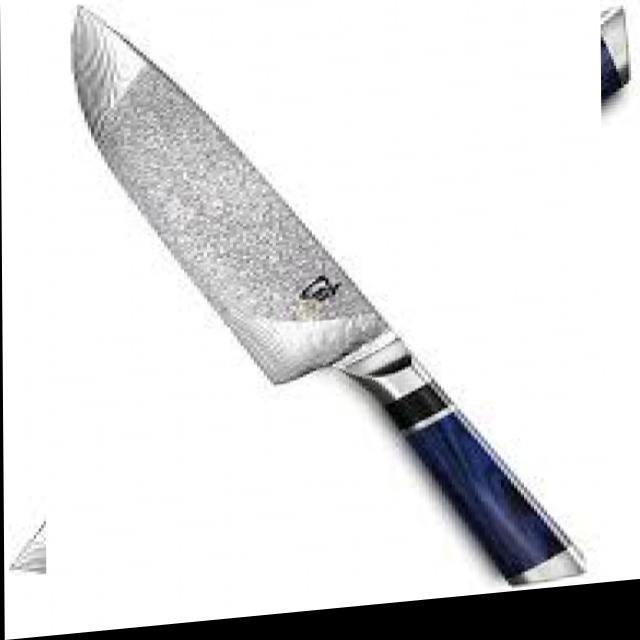knife: (68, 0, 589, 589)
